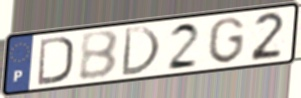2: (251, 10, 287, 64), (164, 21, 203, 70)
B: (77, 28, 121, 82)
D: (119, 24, 163, 77), (36, 34, 75, 87)
G: (207, 15, 246, 65)
